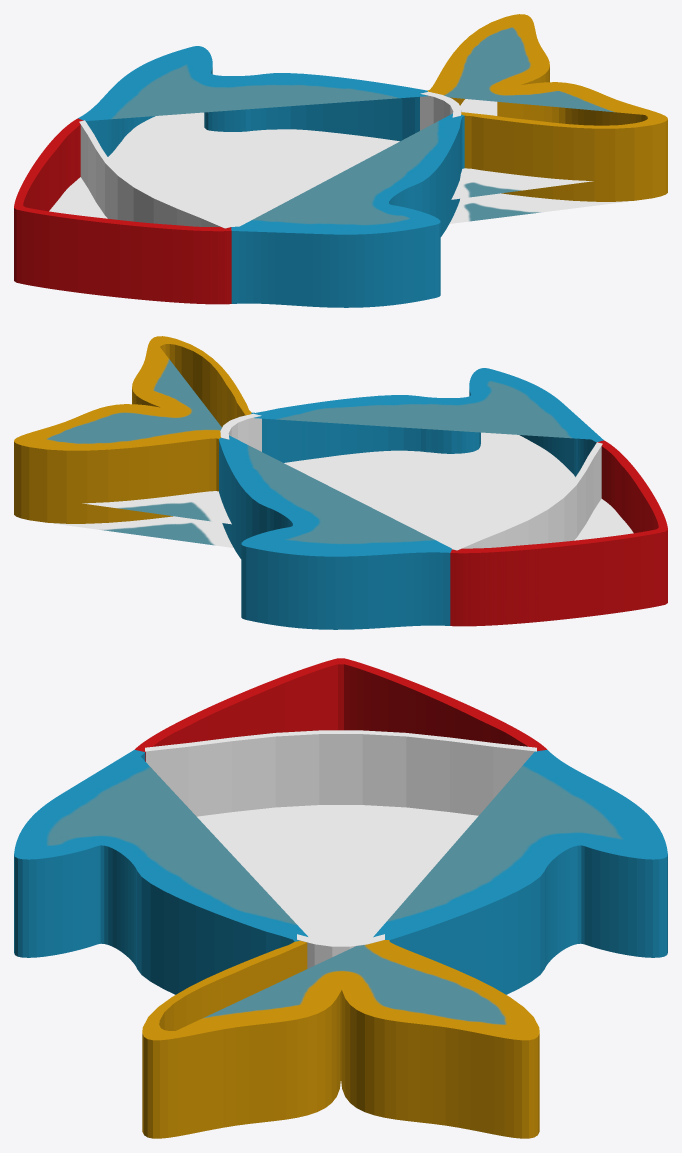
File: Fish2.fbx
3 views of the same model, one above another, from view 1: azimuth 30°, elevation 25°; view 2: azimuth 150°, elevation 25°; view 3: azimuth 270°, elevation 25° (orthographic). The views are drawn at different scales.
Visible parts, largest first — view 1: part.002; view 2: part.002; view 3: part.002.
Part boxes in pixels (bbox=[...]): part.002: bbox=[14, 14, 667, 307]; part.002: bbox=[14, 336, 667, 629]; part.002: bbox=[14, 658, 667, 1138].
Size of the model in its own units: 822 by 98.93 by 595.
Materials: 1 (1 with a texture image).
